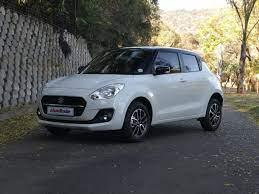Hatchback: (37, 44, 224, 141)
